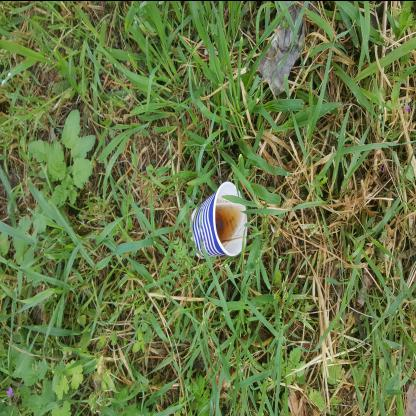karton: (180, 168, 258, 226)
